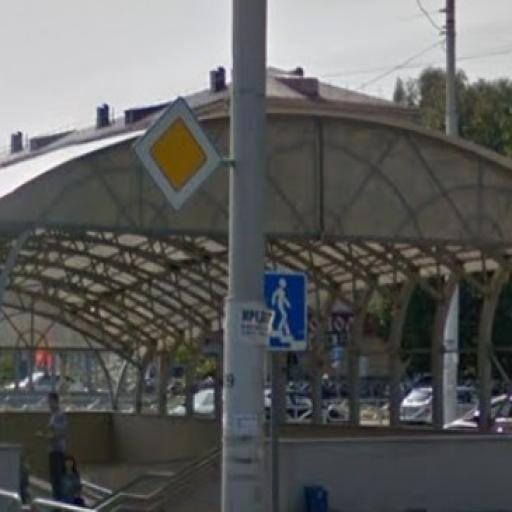traffic_sign: (130, 96, 223, 215)
